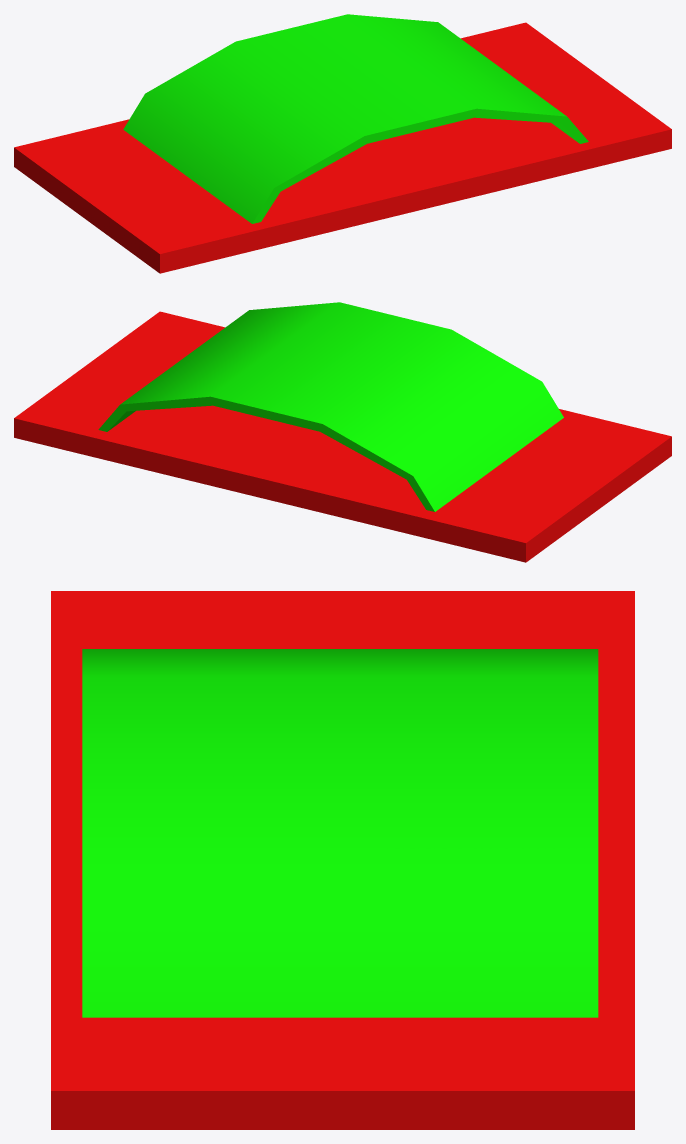
Rendered from Elev.fbx.
3 views of the same model, one above another, from view 1: azimuth 30°, elevation 25°; view 2: azimuth 150°, elevation 25°; view 3: azimuth 270°, elevation 25° (orthographic). The views are drawn at different scales.
Parts seen in each view (by area): view 1: Plattform, Elev; view 2: Plattform, Elev; view 3: Elev, Plattform.
Boxes of the visible parts, box(x1,y1,x2,y2) form: Plattform: box(14, 22, 671, 273); Elev: box(123, 14, 588, 223); Plattform: box(14, 311, 671, 562); Elev: box(98, 302, 563, 511); Elev: box(82, 649, 598, 1017); Plattform: box(51, 591, 634, 1129).
Bounding box in the file's own units: 639 × 95.53 × 315.
